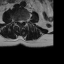CCS_severe_stenosis: (20, 17, 21, 25)
LFS_stenosis: (23, 17, 25, 23)
LLS_normal: (21, 17, 23, 24)
RFS_stenosis: (16, 17, 18, 23)
RLS_stenosis: (18, 18, 20, 24)
